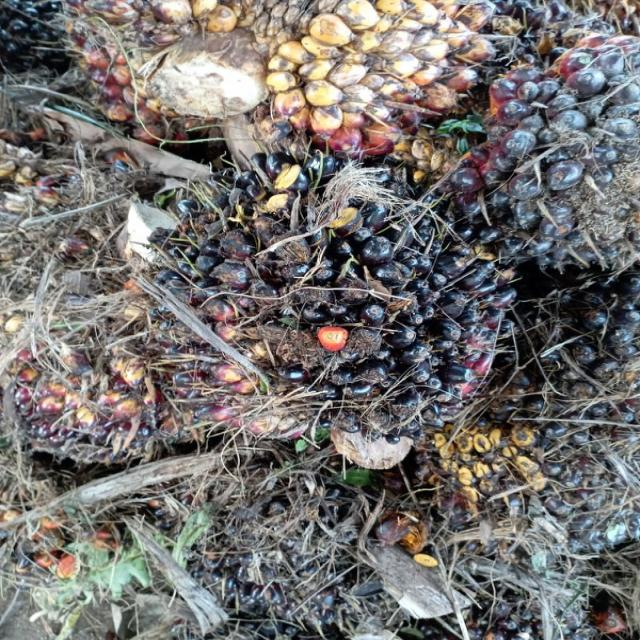fraksi 00: (109, 138, 540, 459)
